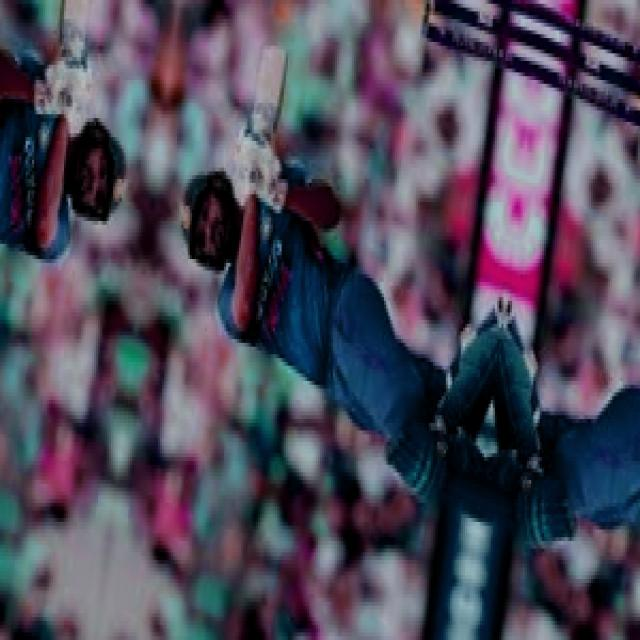toe: (257, 40, 293, 65)
